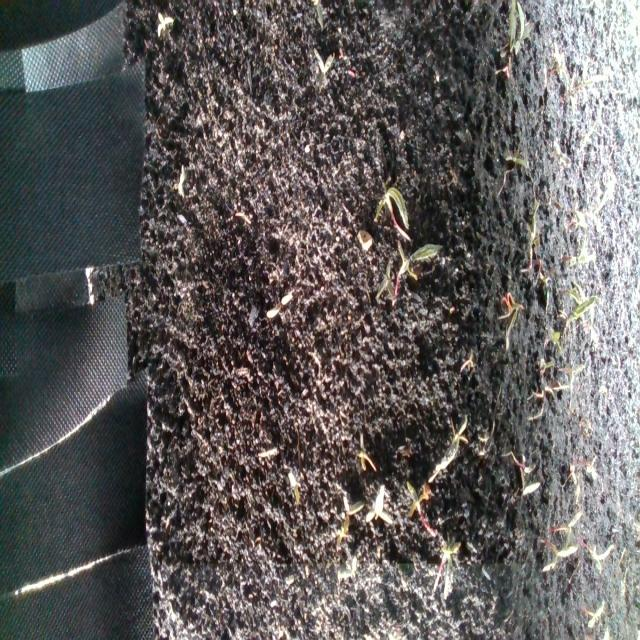weed: (285, 469, 307, 513), (354, 434, 376, 477), (268, 292, 290, 319), (148, 10, 172, 34), (174, 170, 188, 196)
